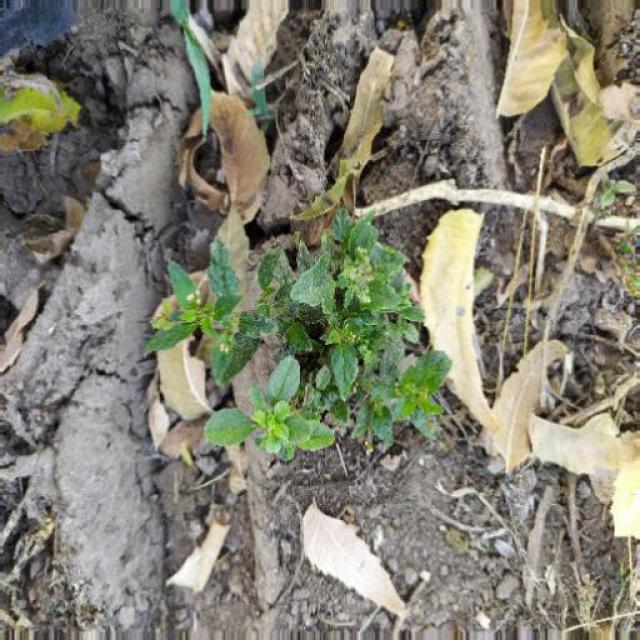weed: (154, 207, 476, 485)
